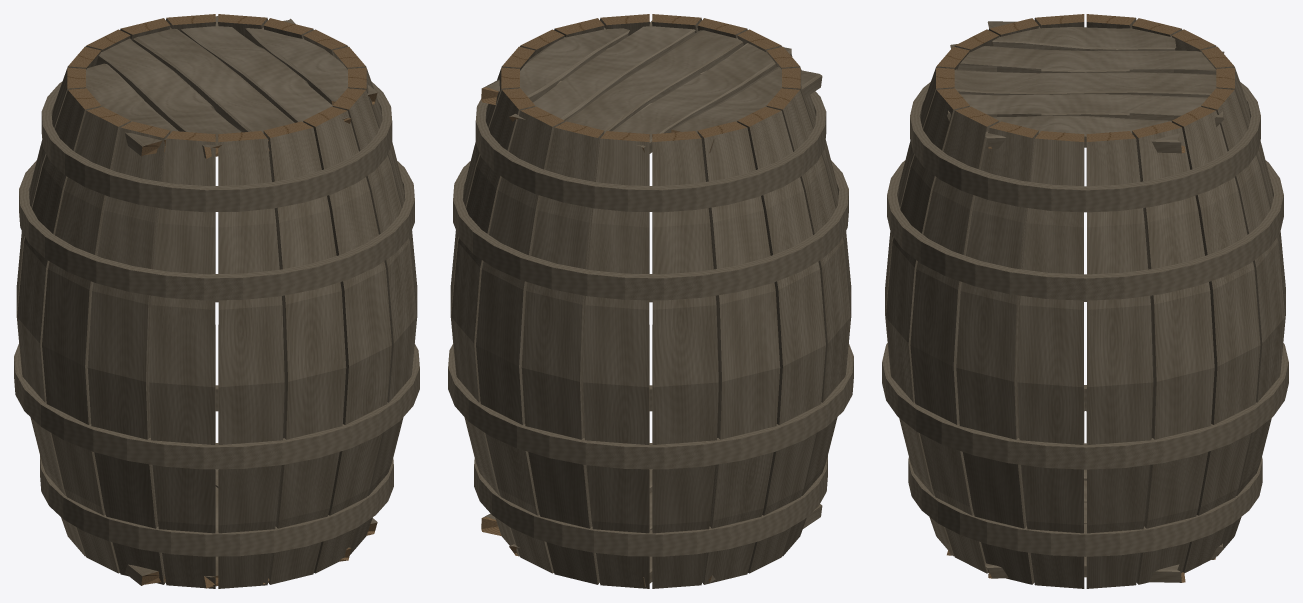
Rendered from barrel_intact.fbx.
3 views of the same model, side by side, from view 1: azimuth 30°, elevation 25°; view 2: azimuth 150°, elevation 25°; view 3: azimuth 270°, elevation 25° (orthographic).
Parts seen in each view (by area): view 1: barrel_intact; view 2: barrel_intact; view 3: barrel_intact.
Part boxes in pixels (x1=…): barrel_intact: x1=14, y1=14, x2=419, y2=588; barrel_intact: x1=448, y1=14, x2=853, y2=588; barrel_intact: x1=882, y1=14, x2=1288, y2=588.
Size of what is drawn, in the model's own units: 0.7507 by 0.9129 by 0.7507.
Materials: 1 (1 with a texture image).
